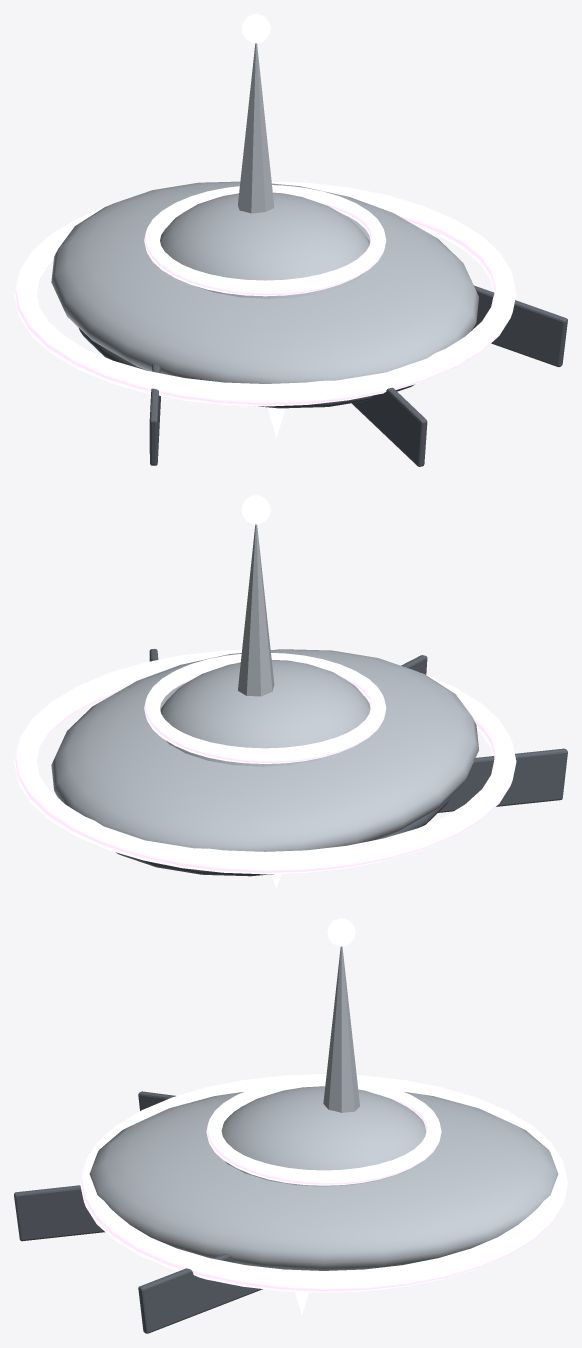
The model's file is ill_destroyer.glb.
3 renders of one model, top to bottom at view 1: azimuth 30°, elevation 25°; view 2: azimuth 150°, elevation 25°; view 3: azimuth 270°, elevation 25°, orthographic. The views are drawn at different scales.
Visible parts, largest first — view 1: saucer, ring, dome, dome_ring, fin_0, spire, fin_1, fin_2, saucer_bottom, spire_tip; view 2: saucer, ring, dome, dome_ring, fin_2, spire, saucer_bottom, spire_tip; view 3: saucer, ring, dome, dome_ring, fin_0, fin_1, spire, spire_tip.
Boxes of the visible parts, x1,y1,x2,y2 form: saucer: (51, 181, 478, 383); ring: (14, 181, 516, 406); dome: (160, 192, 369, 298); dome_ring: (144, 185, 386, 296); fin_0: (473, 285, 567, 366); spire: (238, 43, 274, 213); fin_1: (352, 387, 427, 466); fin_2: (149, 363, 160, 465); saucer_bottom: (78, 327, 414, 408); spire_tip: (241, 14, 270, 43); saucer: (51, 649, 478, 851); ring: (14, 649, 516, 874); dome: (160, 660, 370, 766); dome_ring: (144, 653, 386, 763); fin_2: (438, 748, 567, 812); spire: (238, 524, 274, 696); saucer_bottom: (116, 795, 451, 876); spire_tip: (241, 495, 270, 524); saucer: (89, 1092, 558, 1270); ring: (80, 1074, 567, 1292); dome: (221, 1086, 426, 1186); dome_ring: (206, 1077, 441, 1185); fin_0: (138, 1254, 262, 1333); fin_1: (14, 1185, 104, 1241); spire: (323, 946, 359, 1112); spire_tip: (327, 918, 355, 946).
Size of the model in its own units: 0.222 by 0.199 by 0.252.
